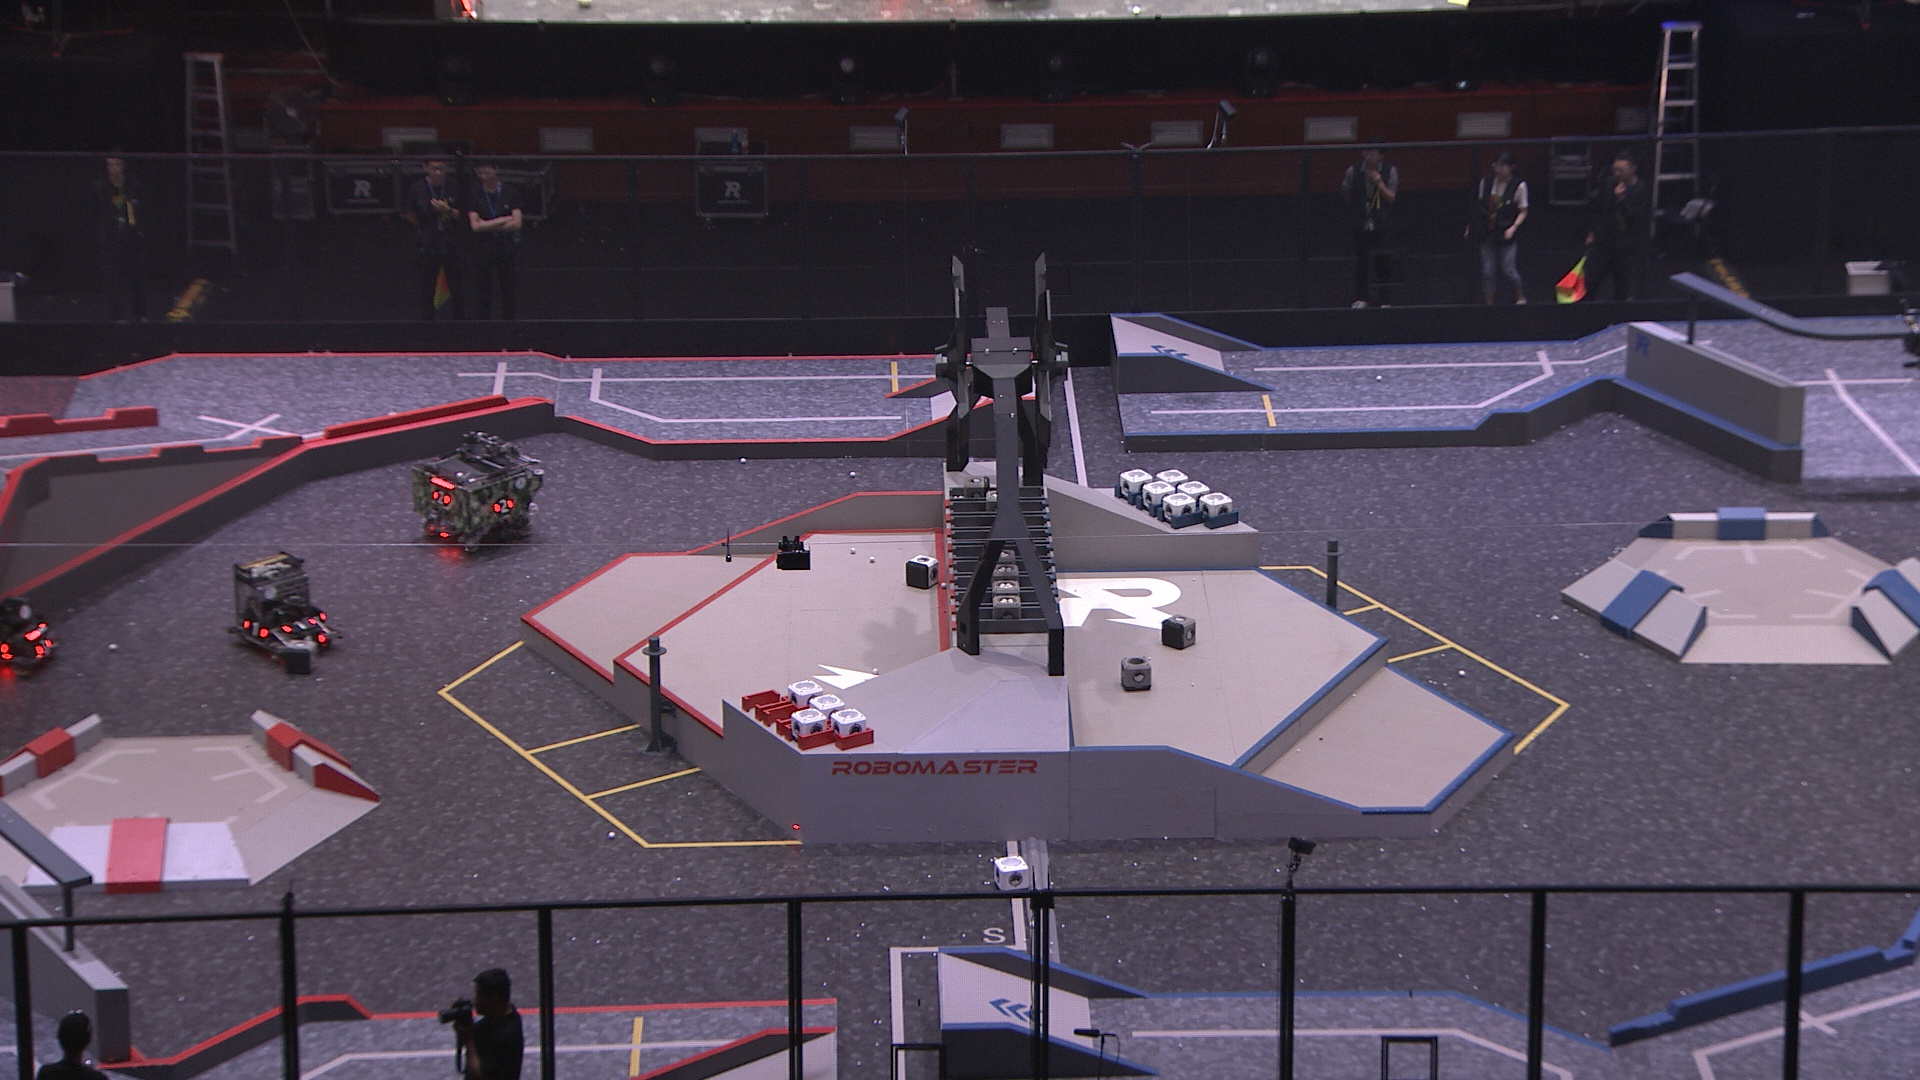armor: (280, 616, 316, 636), (240, 613, 266, 638), (301, 629, 327, 651), (34, 636, 55, 659), (491, 498, 517, 517), (429, 488, 452, 506)
car: (410, 429, 543, 553), (223, 546, 342, 670)
watcher: (1896, 295, 1920, 373)
